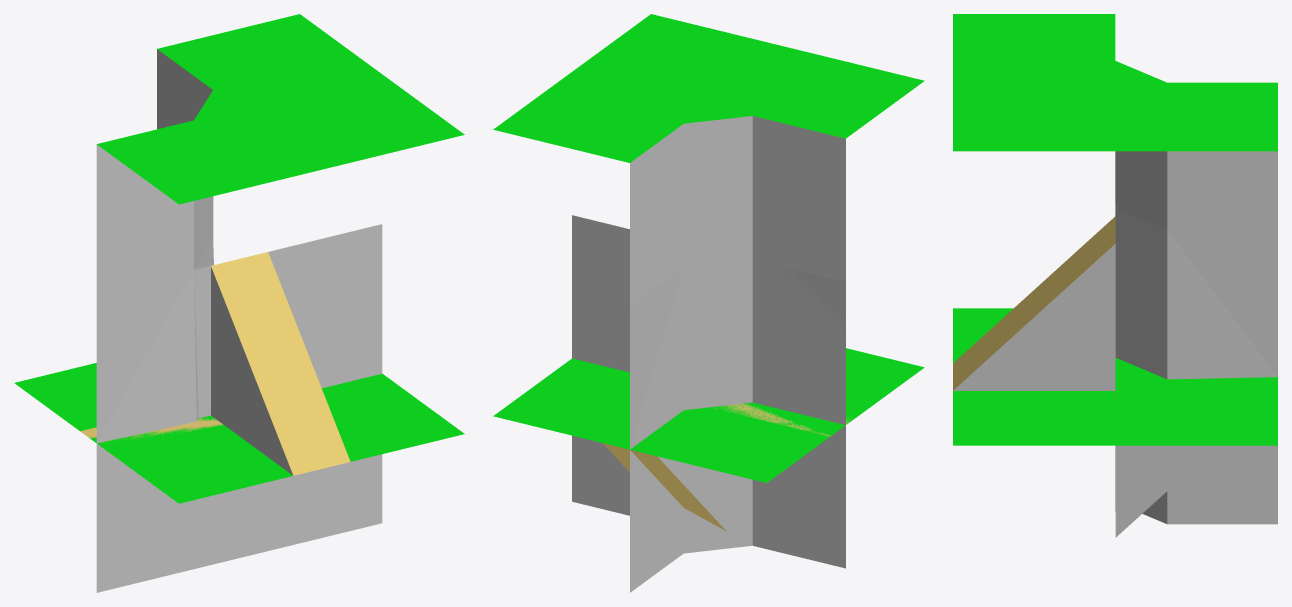
File: WFC Modules.fbx
The picture shows the model from 3 angles, left to right: view 1: azimuth 30°, elevation 25°; view 2: azimuth 150°, elevation 25°; view 3: azimuth 270°, elevation 25°; orthographic projection. The views are drawn at different scales.
Visible parts, largest first — view 1: InCornerRamp, Ramp_Path, Ramp, OutCornerRamp, RampReceiver, OutReceiver, Ground, RampReceiver_Path, Ground_PathMiddle, Ground_PathEnd; view 2: InCornerRamp, Down, RampReceiver, OutCornerRamp, Ramp, Ground_PathMiddle, OutReceiver, RampReceiver_Path, Ground, Ramp_Path, Ground_PathEnd; view 3: InCornerRamp, OutCornerRamp, Ramp_Path, Down, OutReceiver, RampReceiver_Path, Ground, Ramp.
Part boxes in pixels (x1,y1,x2,y2): InCornerRamp: (96,14,464,293); Ramp_Path: (96,224,382,503); Ramp: (96,224,382,503); OutCornerRamp: (97,240,464,479); RampReceiver: (193,454,382,568); OutReceiver: (90,436,193,592); Ground: (14,363,224,502); RampReceiver_Path: (175,454,381,572); Ground_PathMiddle: (21,363,96,438); Ground_PathEnd: (25,363,222,440); InCornerRamp: (493,14,924,305); Down: (630,259,845,449); RampReceiver: (572,402,845,568); OutCornerRamp: (493,266,845,448); Ramp: (572,215,924,411); Ground_PathMiddle: (541,403,851,482); OutReceiver: (630,450,775,592); RampReceiver_Path: (572,405,845,567); Ground: (581,403,865,481); Ramp_Path: (572,216,923,409); Ground_PathEnd: (544,419,846,481); InCornerRamp: (953,14,1277,229); OutCornerRamp: (953,207,1277,445); Ramp_Path: (953,216,1115,390); Down: (1115,208,1277,376); OutReceiver: (1142,445,1277,524); RampReceiver_Path: (1115,445,1216,537); Ground: (1115,358,1277,412); Ramp: (953,229,1115,399).
Bounding box in the file's own units: 200 × 300 × 200.
